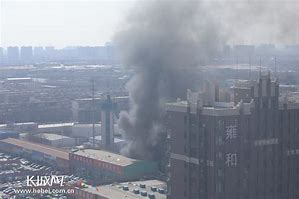smoke: (111, 1, 169, 156)
